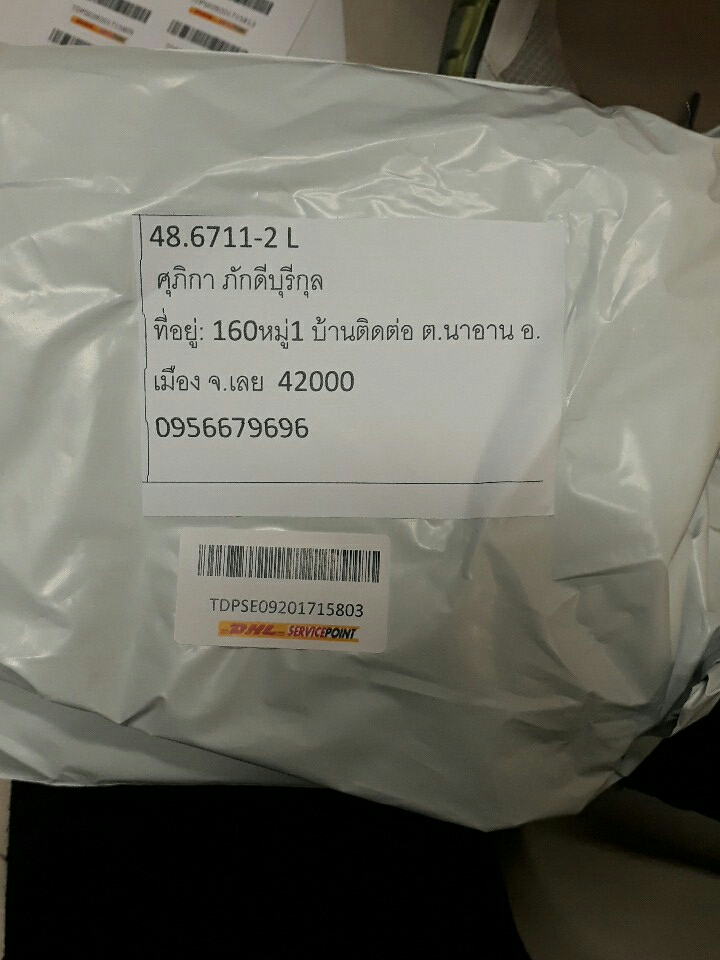ba: (168, 525, 400, 668)
txt: (140, 257, 544, 482)
